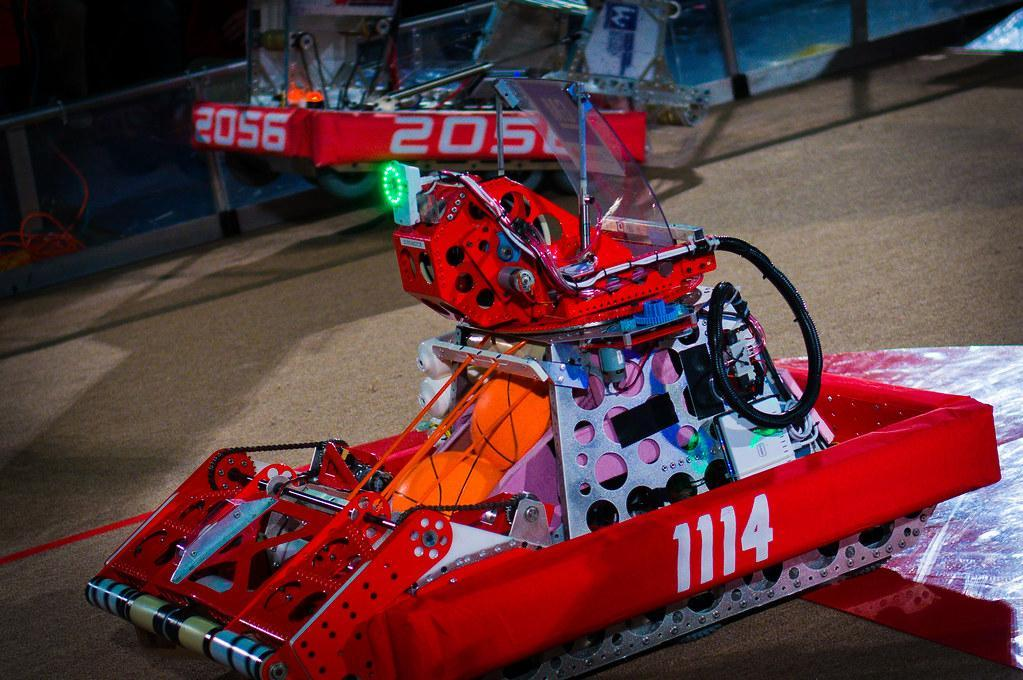robot: (83, 70, 1000, 680), (183, 0, 723, 192)
